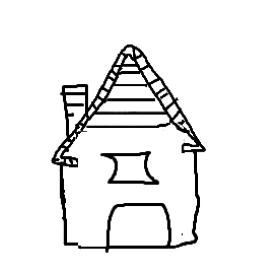bottom_placed_house: (1, 2, 260, 260)
chimney: (57, 78, 96, 138)
door: (100, 195, 173, 256)
open_window: (101, 144, 166, 191)
roof: (34, 25, 214, 170)
wall: (40, 133, 230, 253)
